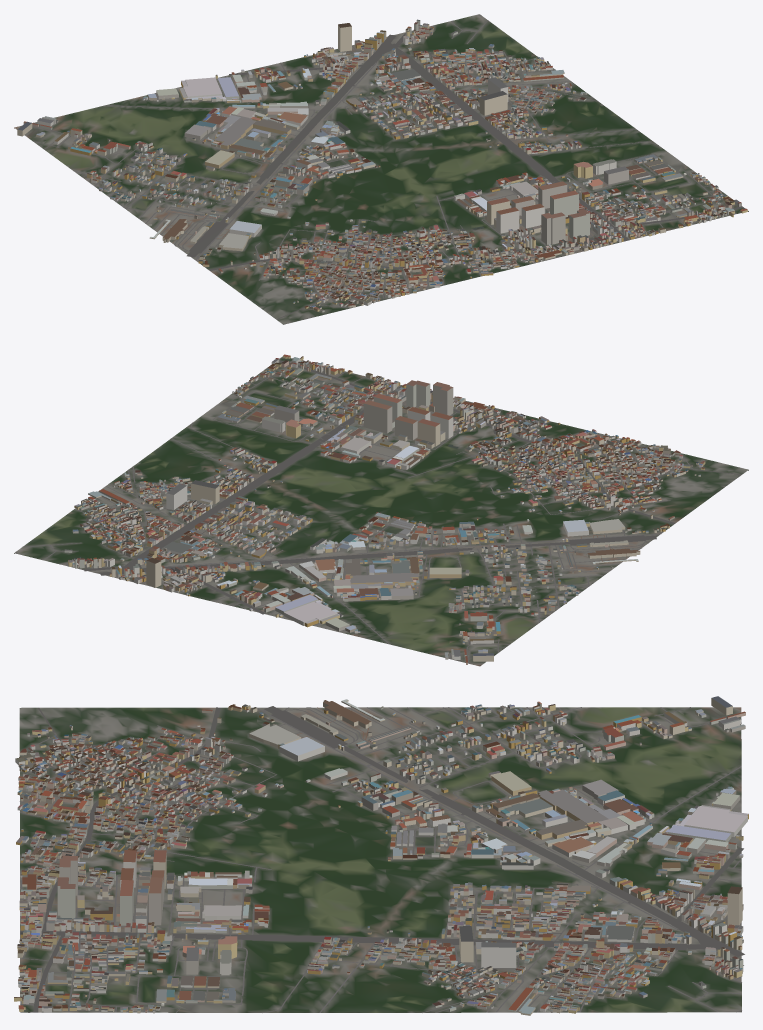
The picture shows the model from 3 angles, top to bottom: view 1: azimuth 30°, elevation 25°; view 2: azimuth 150°, elevation 25°; view 3: azimuth 270°, elevation 25°; orthographic projection. The views are drawn at different scales.
Visible parts, largest first — view 1: ground, buildings, roads; view 2: ground, buildings, roads; view 3: ground, buildings, roads.
Part boxes in pixels (x1,y1,x2,y2): ground: (14,14,748,324); buildings: (17,19,747,312); roads: (32,14,745,319); ground: (14,356,748,666); buildings: (64,354,705,664); roads: (16,358,741,663); ground: (19,707,741,1012); buildings: (14,696,748,1015); roads: (19,706,744,1012).
Size of the model in its own units: 1450 by 79.18 by 1428.
